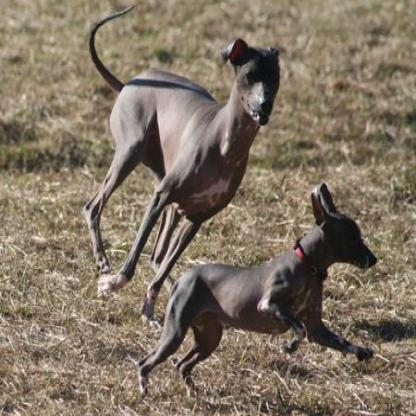Mexican_hairless: (83, 1, 286, 331), (135, 181, 378, 397)
